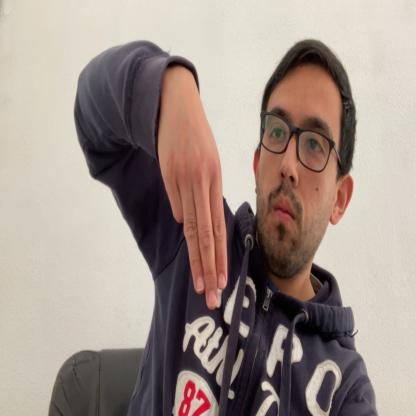M: (158, 69, 227, 311)
